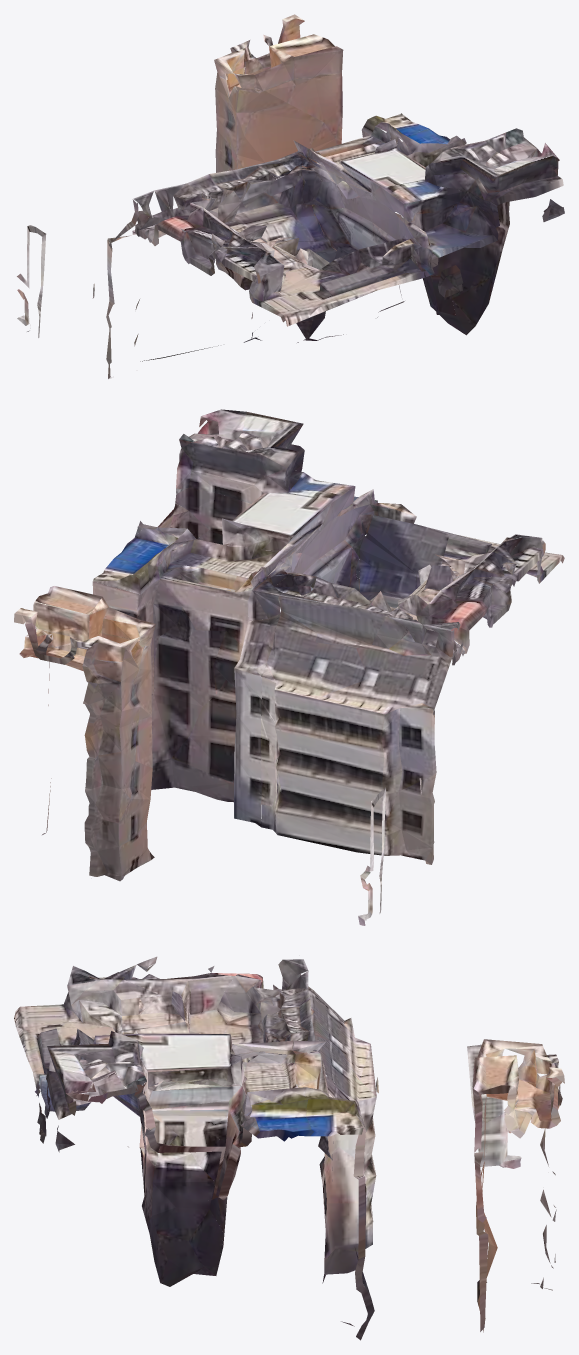
3 renders of one model, top to bottom at view 1: azimuth 30°, elevation 25°; view 2: azimuth 150°, elevation 25°; view 3: azimuth 270°, elevation 25°, orthographic. The views are drawn at different scales.
Parts seen in each view (by area): view 1: Mesh_0; view 2: Mesh_0; view 3: Mesh_0.
Part boxes in pixels (x1,y1,x2,y2): Mesh_0: (17,14,564,378); Mesh_0: (14,409,564,925); Mesh_0: (14,956,564,1340).
Bounding box in the file's own units: 33.89 × 22.64 × 41.34.
2 materials, 2 textured.
